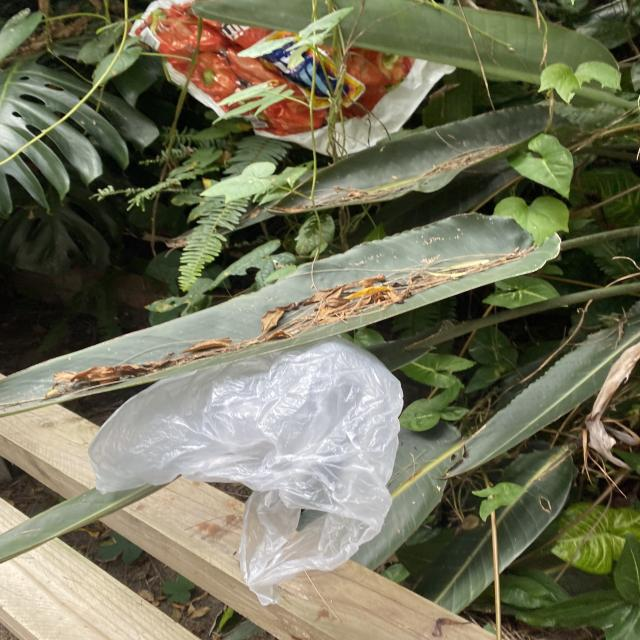bag: (87, 337, 407, 604), (130, 0, 453, 156)
